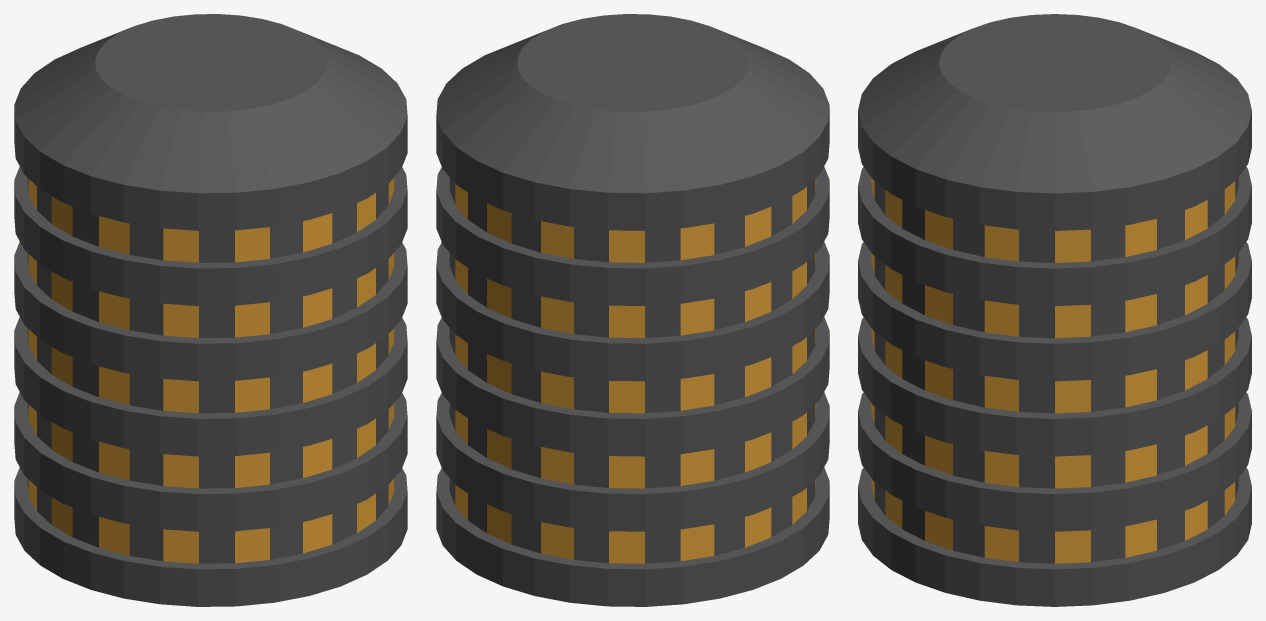
File: Predio_tosco_2.fbx
3 renders of one model, left to right at view 1: azimuth 30°, elevation 25°; view 2: azimuth 150°, elevation 25°; view 3: azimuth 270°, elevation 25°, orthographic.
Visible parts, largest first — view 1: Cylinder; view 2: Cylinder; view 3: Cylinder.
Part boxes in pixels (x1,y1,x2,y2): Cylinder: (14,14,407,606); Cylinder: (436,14,829,606); Cylinder: (858,14,1251,606).
Bounding box in the file's own units: 2401 × 3099 × 2401.
